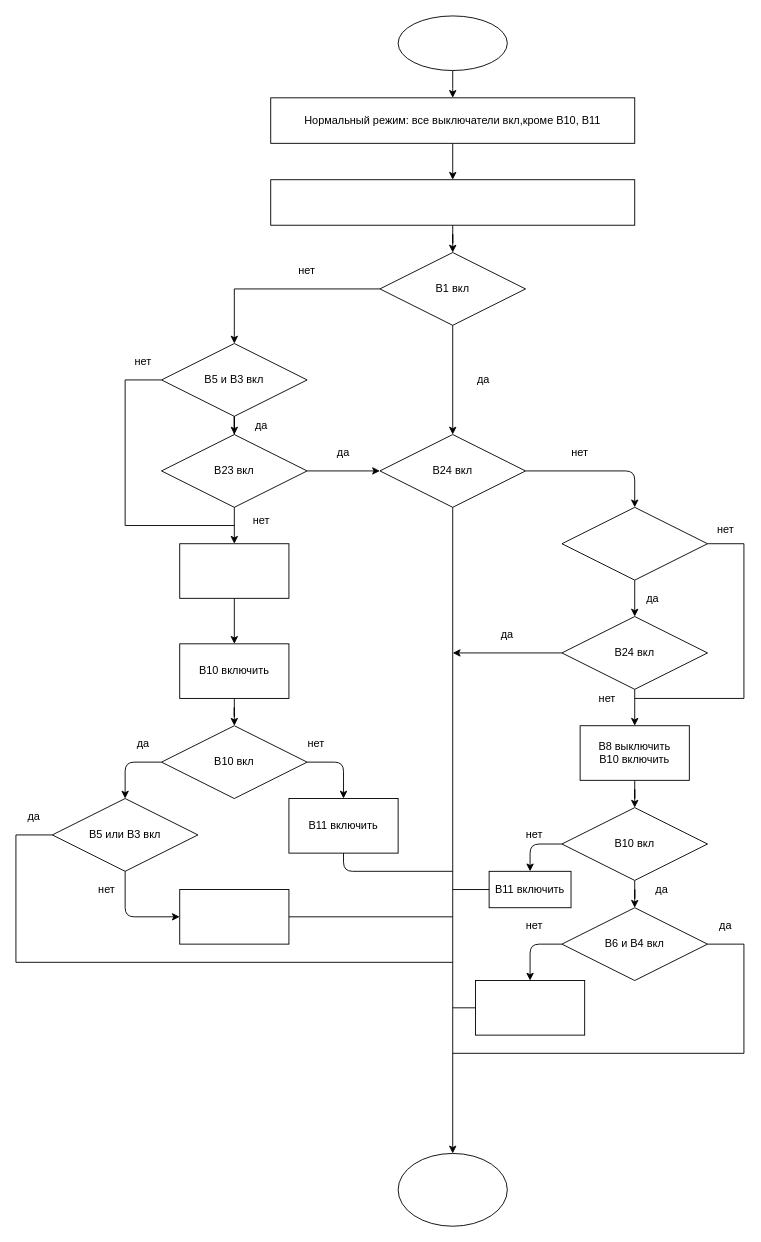
The diagram is 761 pixels wide and 1242 high, and some of its shapes have lost their labels. The centre of each missing label's shape, as x and y in pixels:
В6 или В4 вкл: the point at 634,543
В7 включить: the point at 234,916
В7 выключить: the point at 234,570
В8 включить: the point at 530,1007
Конец: the point at 452,1189
Начало: the point at 452,43
Проверка состояния сети: the point at 452,202
